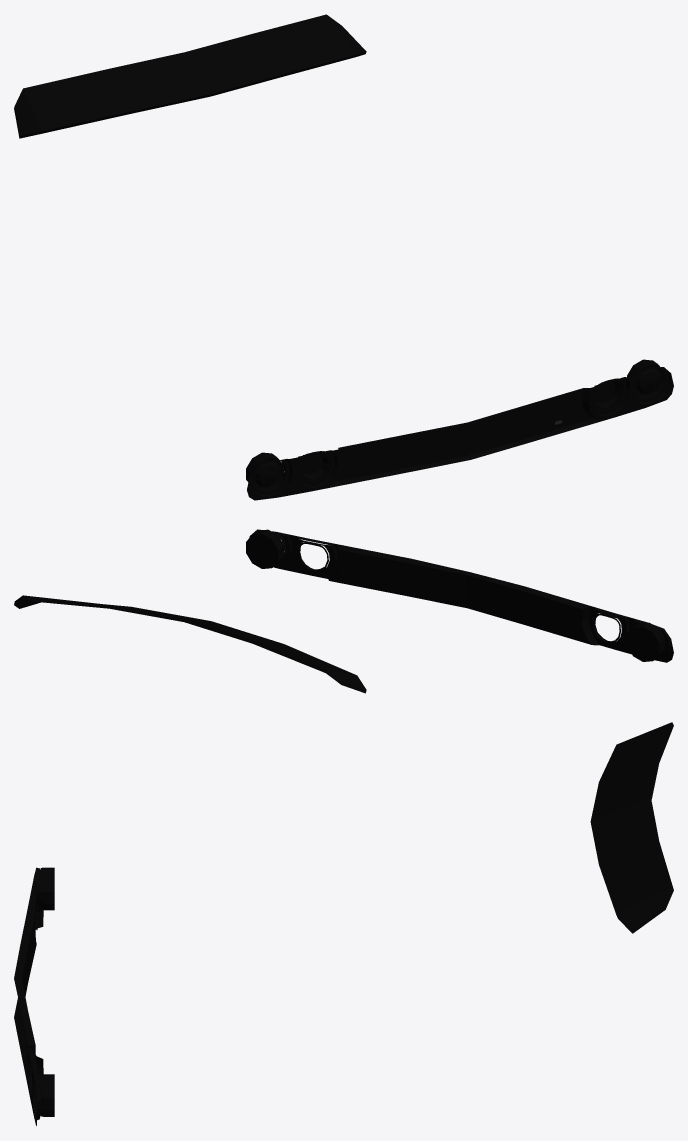
File: dcsrta_grille.obj
3 views of the same model, one above another, from view 1: azimuth 30°, elevation 25°; view 2: azimuth 150°, elevation 25°; view 3: azimuth 270°, elevation 25° (orthographic). The views are drawn at different scales.
Parts seen in each view (by area): view 1: under.001_under.003, under.002, &run.001, &head.001; view 2: under.002, under.001_under.003, &run.001; view 3: under.001_under.003, under.002.
Part boxes in pixels (box(x1,y1,x2,y2)): under.001_under.003: box(14, 14, 366, 138); under.002: box(246, 359, 673, 500); &run.001: box(249, 367, 668, 494); &head.001: box(255, 368, 660, 486); under.002: box(246, 529, 673, 662); under.001_under.003: box(14, 595, 366, 693); &run.001: box(250, 531, 668, 658); under.001_under.003: box(590, 722, 673, 933); under.002: box(14, 867, 54, 1125).
Size of the model in its own units: 2 by 0.8882 by 2.41.
